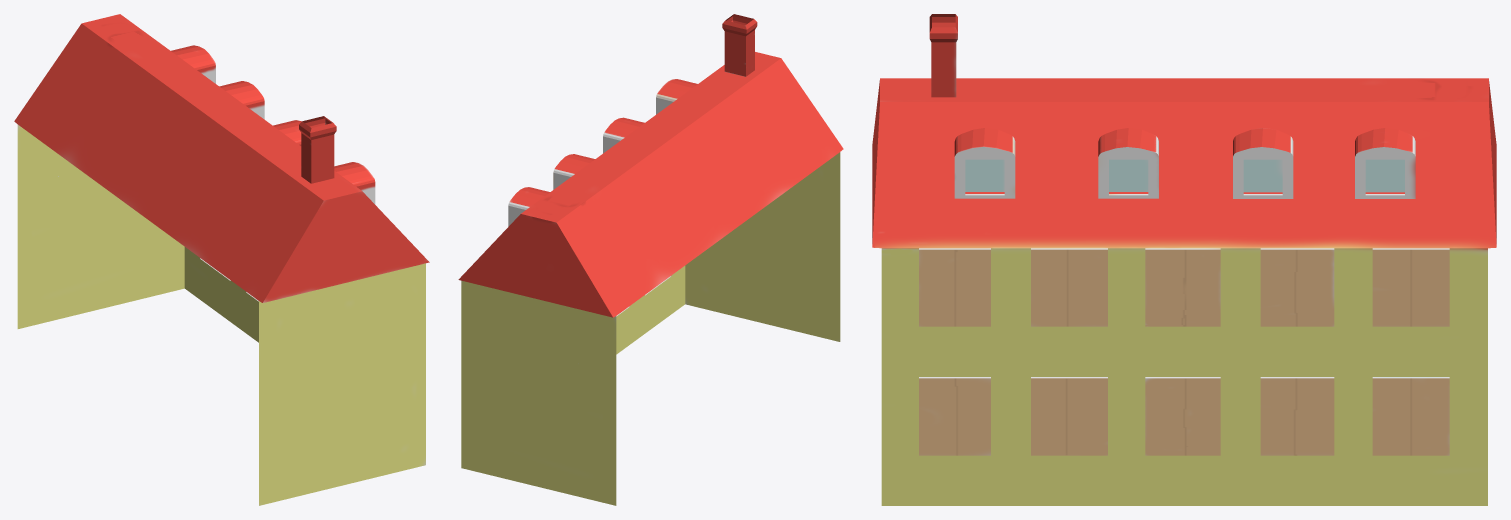
File: House3left.fbx
The picture shows the model from 3 angles, left to right: view 1: azimuth 30°, elevation 25°; view 2: azimuth 150°, elevation 25°; view 3: azimuth 270°, elevation 25°; orthographic projection. The views are drawn at different scales.
Visible parts, largest first — view 1: Cube; view 2: Cube; view 3: Cube.
Part boxes in pixels (<box>): Cube: <box>14,14,429,505</box>; Cube: <box>458,14,843,505</box>; Cube: <box>872,14,1496,505</box>.
Size of the model in its own units: 810 by 1580 by 2059.
